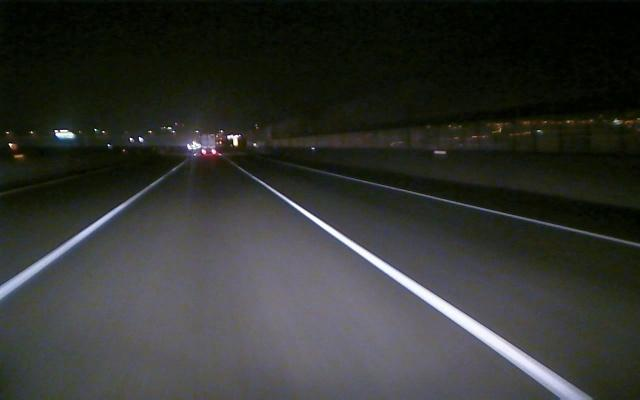lane: (253, 178, 593, 398), (351, 178, 640, 248), (2, 181, 159, 299)
